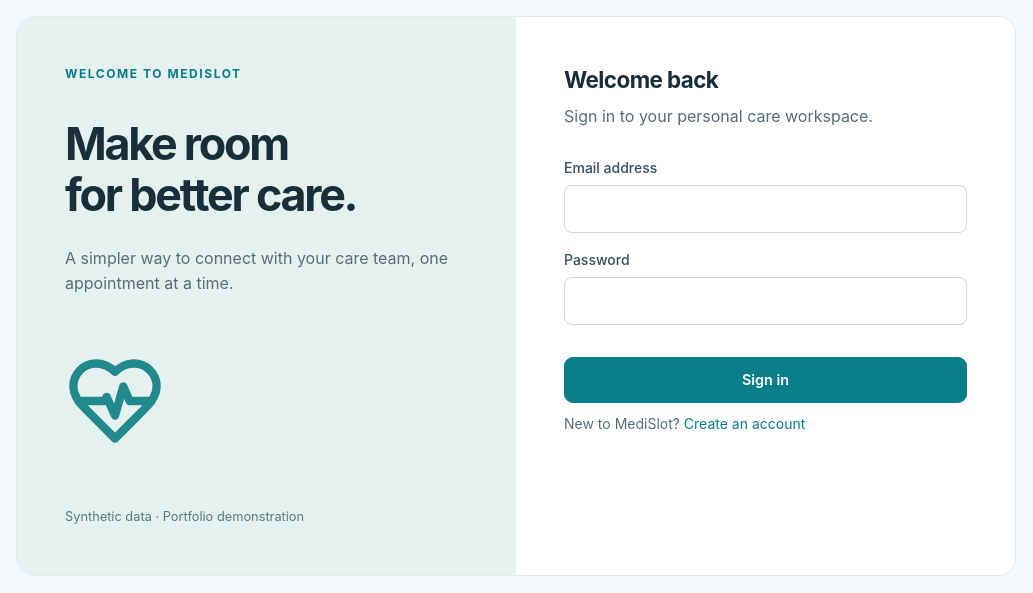
Scenario: forms and real API integration boundaries › validates login before submitting
Click the button "Sign in": (766, 380) [564,357,967,403]
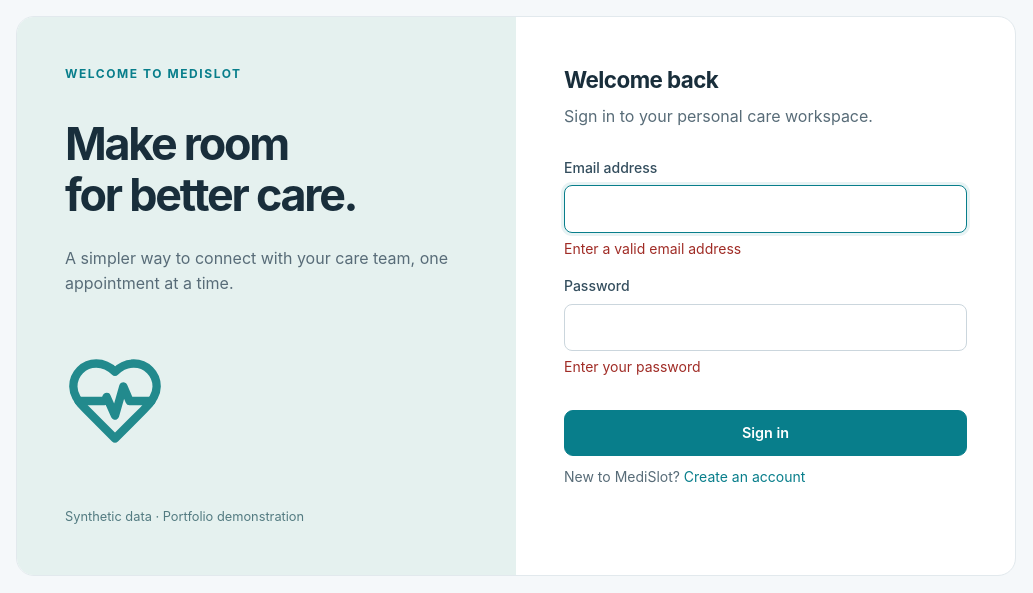
Check: the text "Enter a valid email address" is shown, box [564,240,741,257]
Check: the text "Enter your password" is shown, box [564,358,700,375]
